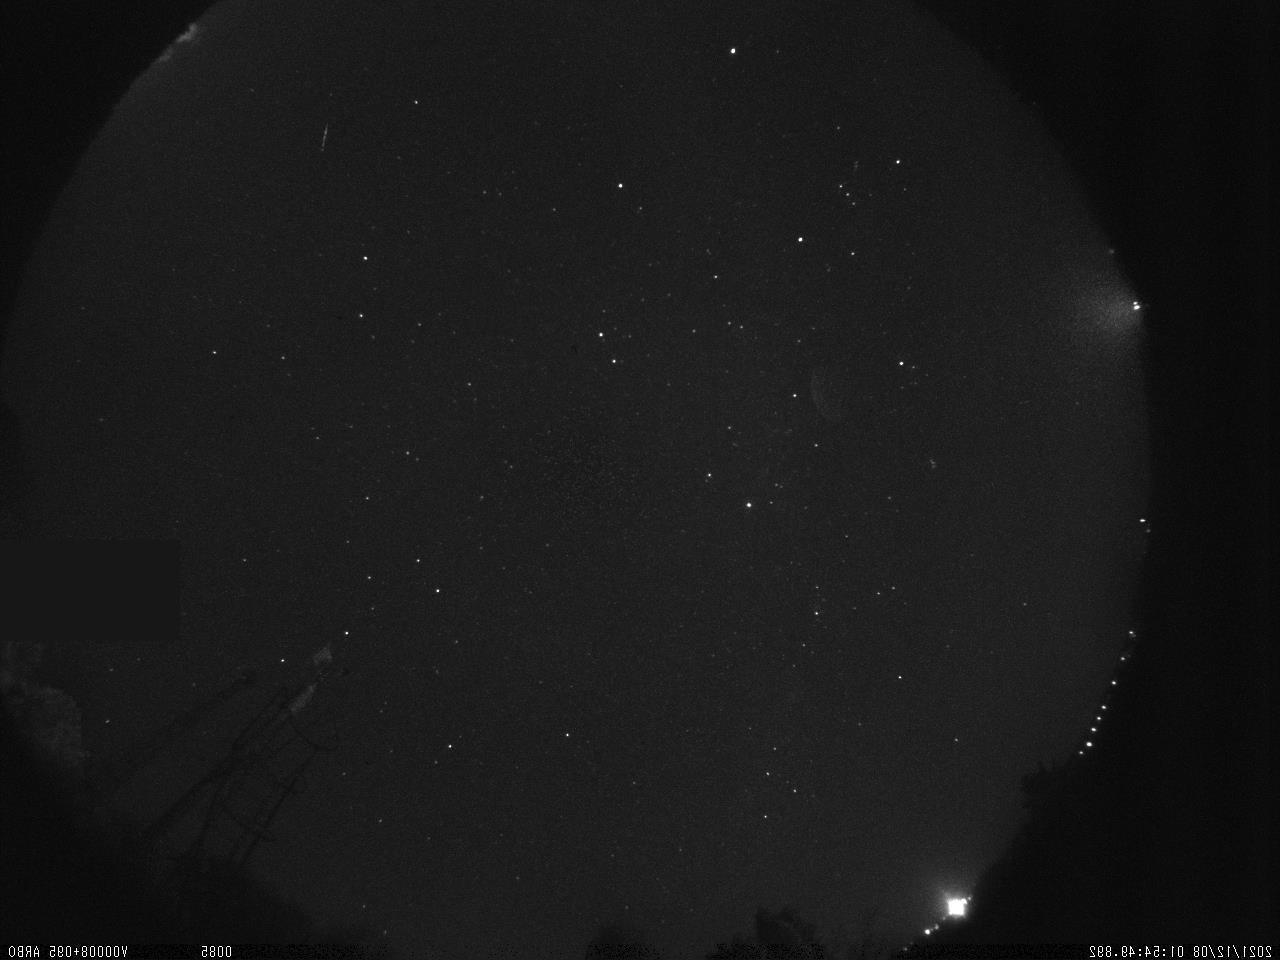meteor: (300, 115, 349, 161)
